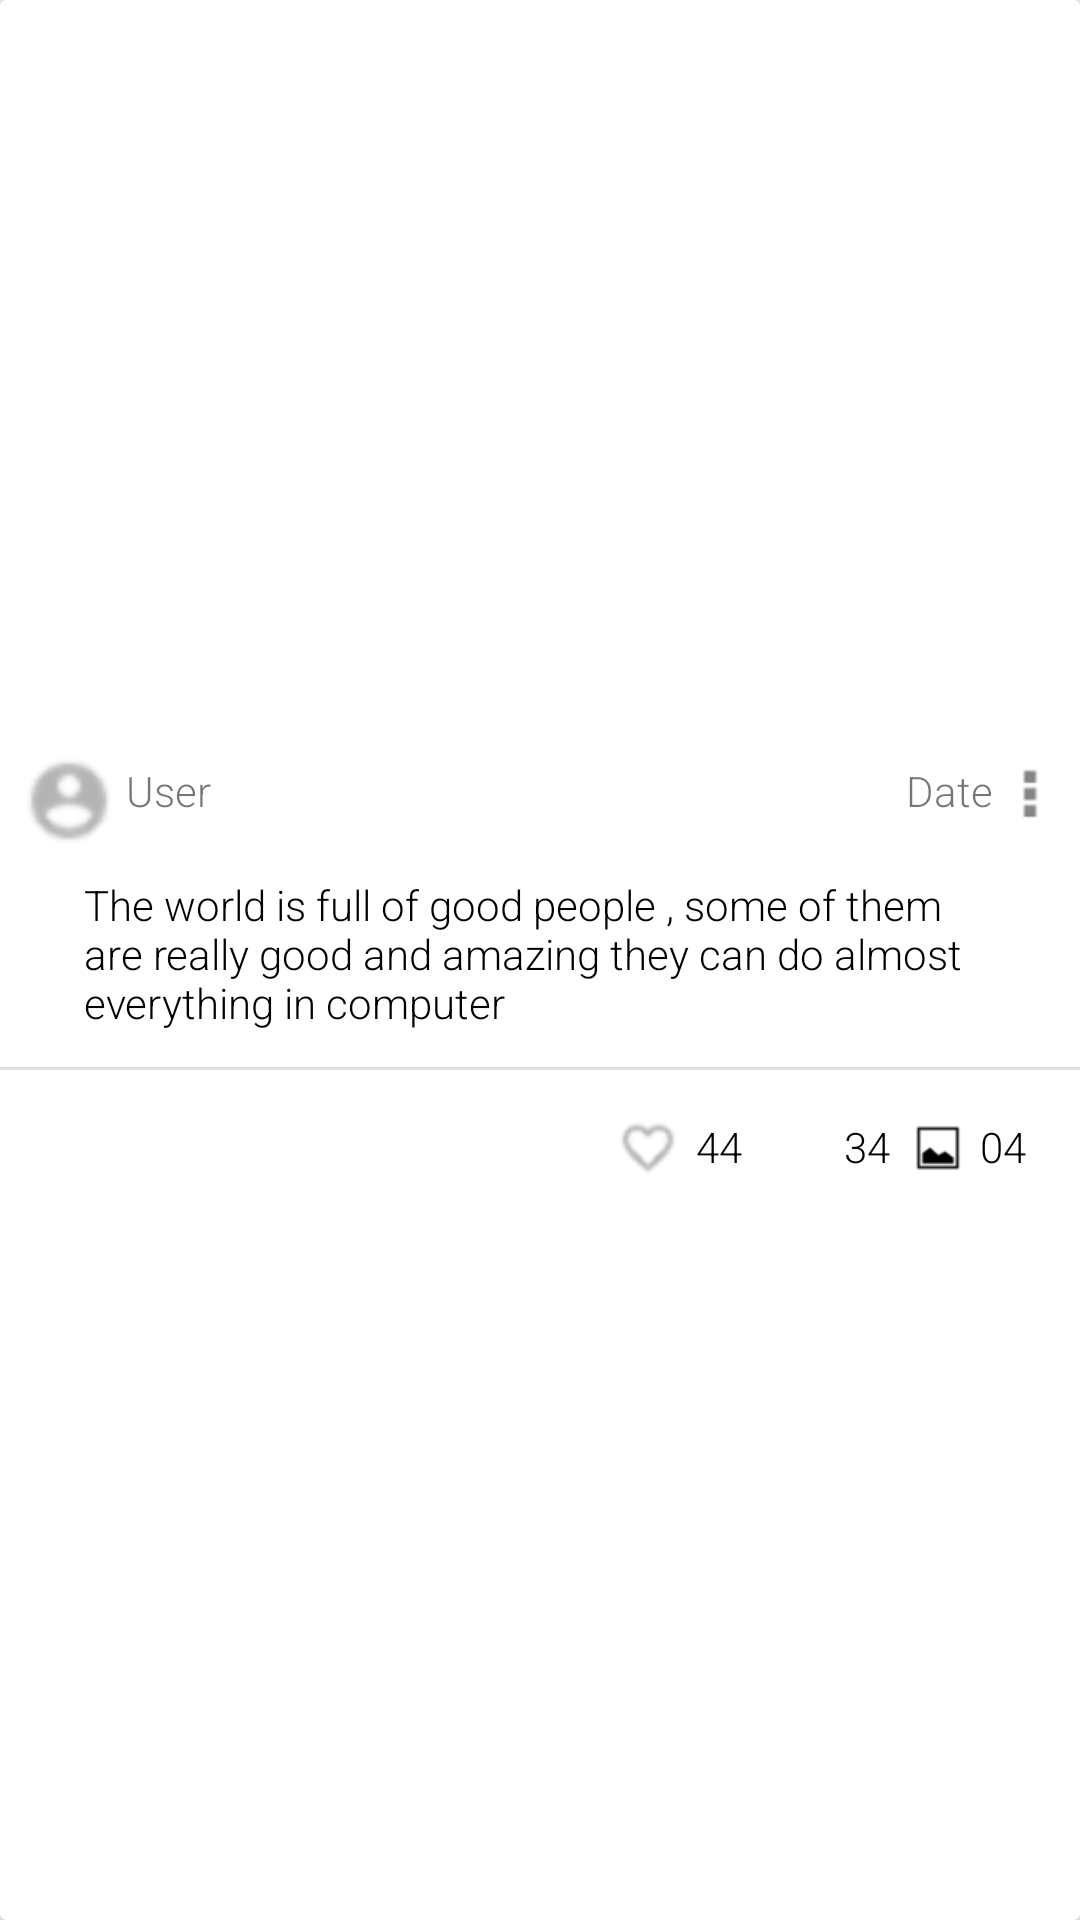

Locate icon controls on the screen. Image size 1080*1920, boxes as (x1, y1, x2, y2).
account circle: (31, 763, 107, 839)
favorite: (622, 1125, 674, 1171)
overflow: (1023, 770, 1037, 817)
